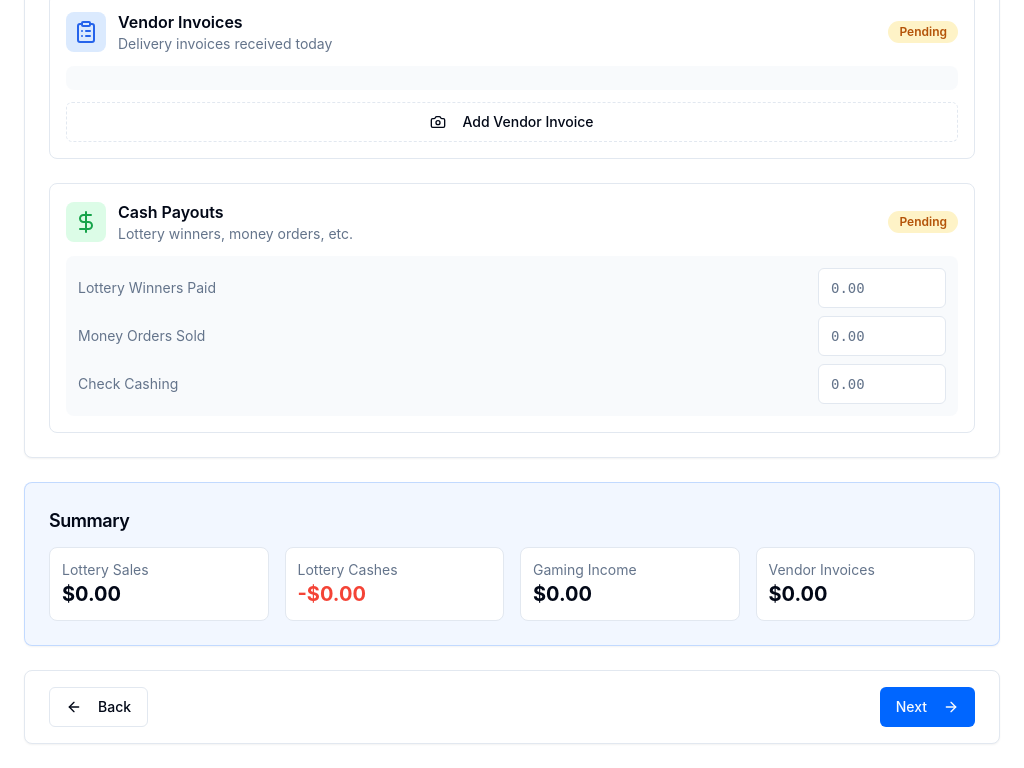
ShiftEndWizard Page › SEW-006: [P0] should advance to step 2 when step 1 completes
The image size is (1024, 768).
(page scrolled)
# User clicks "Next" on report scanning step
Step 1. Click the button with test id "report-scanning-next-btn" → {"x": 927, "y": 707}, box [880,687,975,727]
(page scrolled)
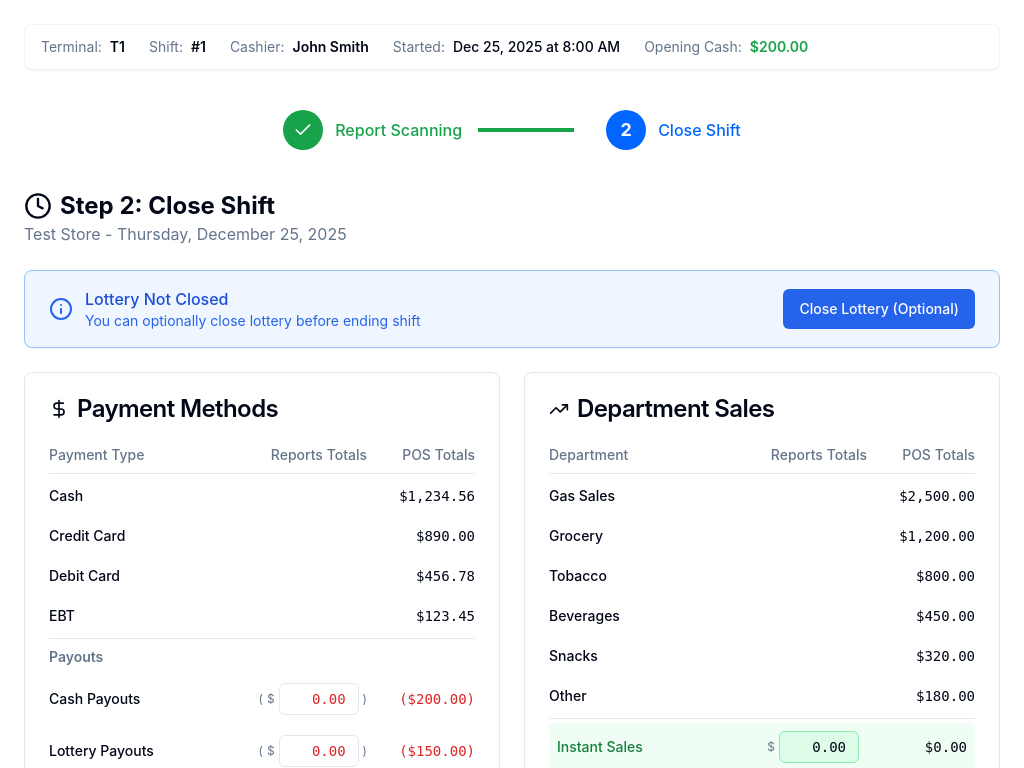
Expected: the heading "Step 2: Close Shift" is shown, [24,191,275,220]
